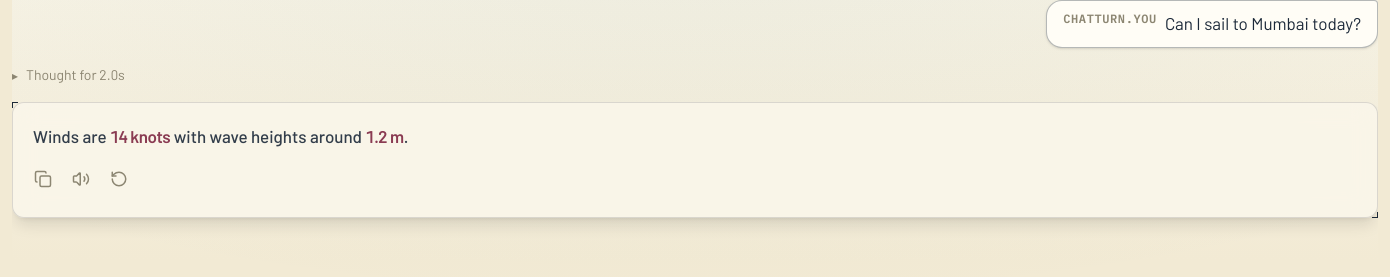
Test: ChatTurn - AgentTraceUI Integration › expands AgentTraceUI on click to show details
Click the button "▸ Thought for 2.0s". click: [68, 75]
box: [12,60,125,90]
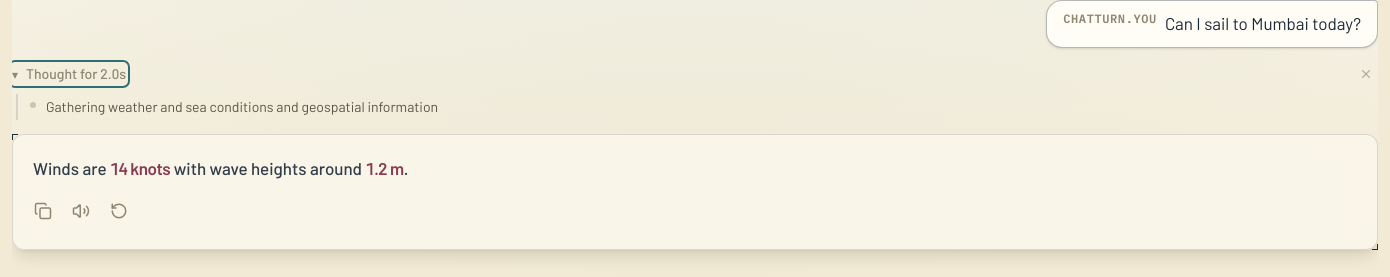
Result: the element named "Agent execution trace" is shown at [12,60,1378,122]
